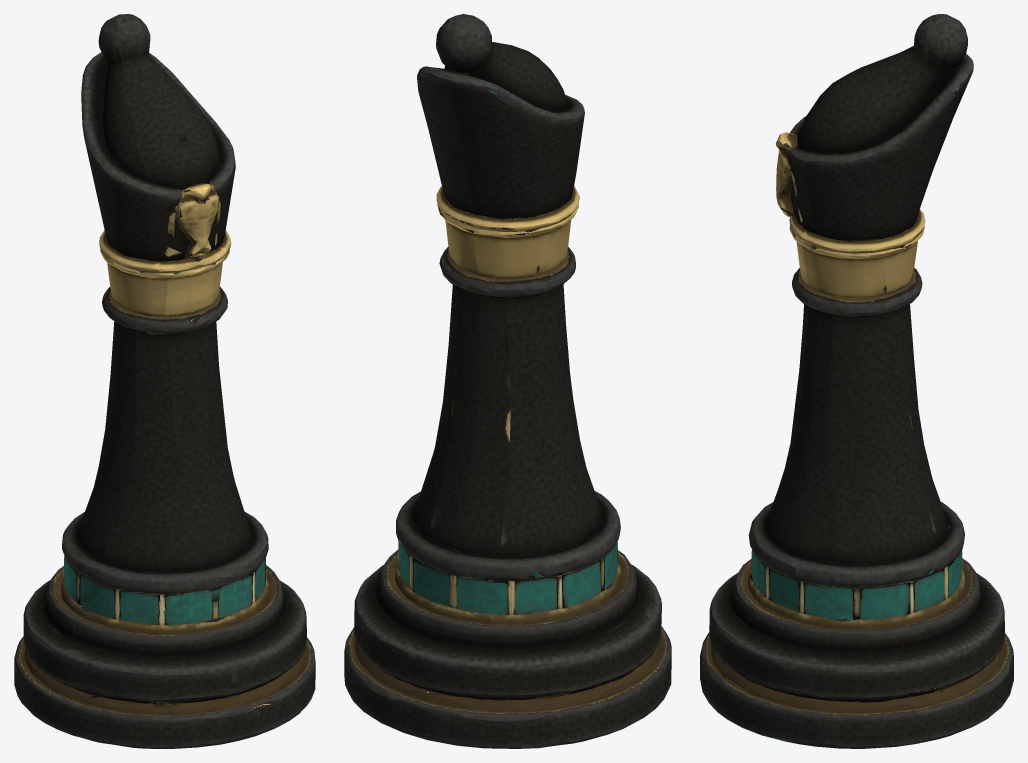
3 views of the same model, side by side, from view 1: azimuth 30°, elevation 25°; view 2: azimuth 150°, elevation 25°; view 3: azimuth 270°, elevation 25° (orthographic). The views are drawn at different scales.
Visible parts, largest first — view 1: world; view 2: world; view 3: world.
Boxes of the visible parts, x1,y1,x2,y2 form: world: [14, 14, 315, 748]; world: [344, 14, 671, 748]; world: [700, 14, 1013, 748].
Bounding box in the file's own units: 0.4273 × 1 × 0.4273.
1 material, 1 textured.
